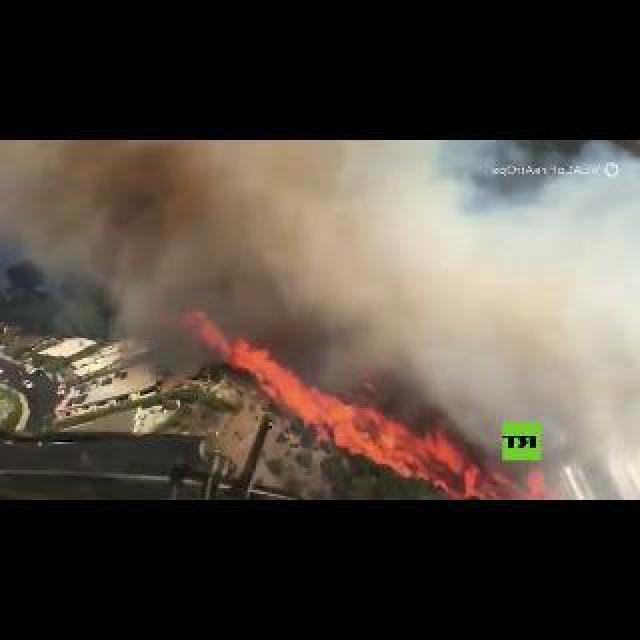Fire: (184, 314, 546, 498)
Smoke: (28, 139, 276, 391)
